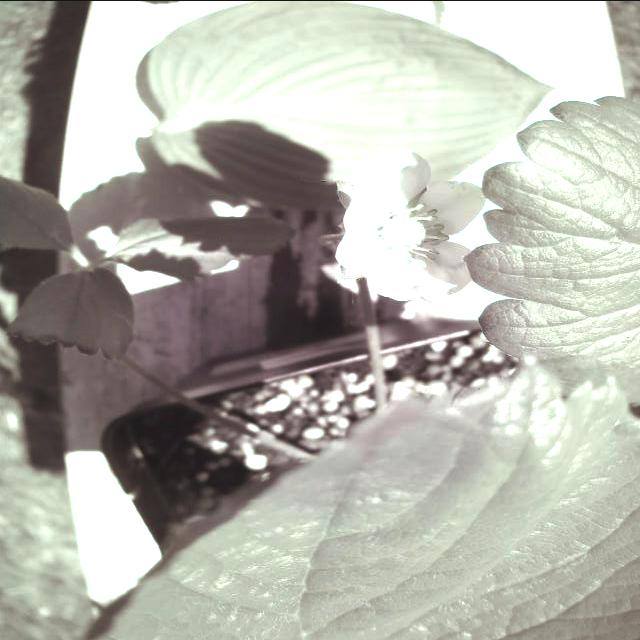flower: (320, 133, 496, 302)
